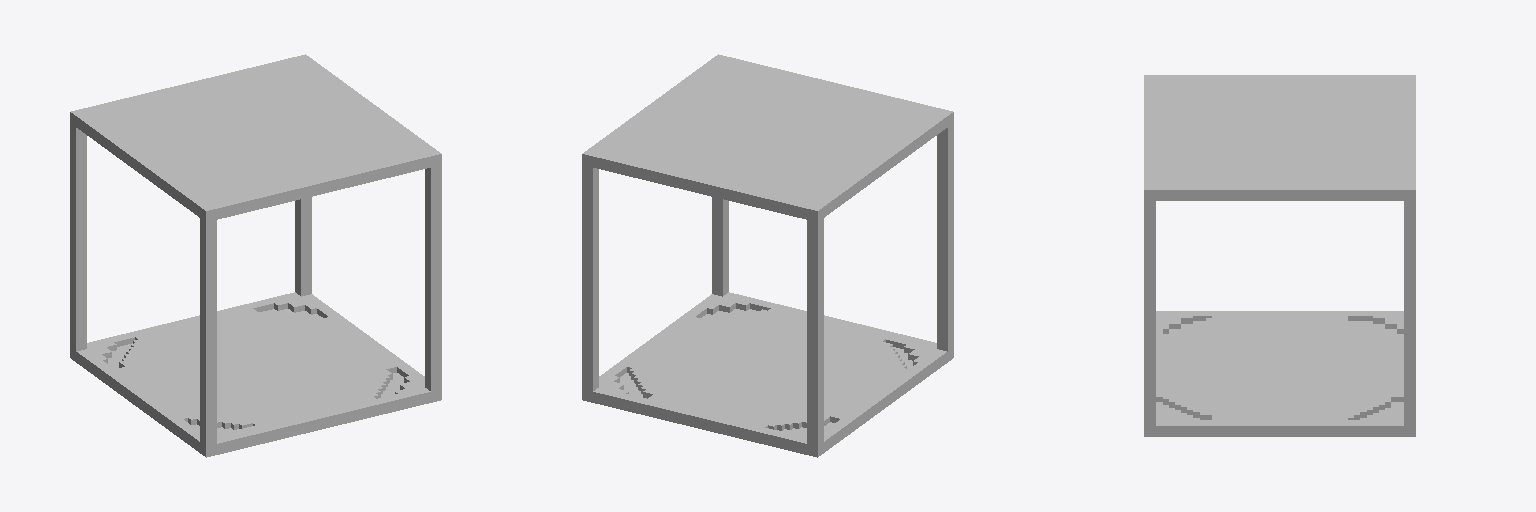
The model's file is hallway pieces-2.obj.
3 renders of one model, left to right at view 1: azimuth 30°, elevation 25°; view 2: azimuth 150°, elevation 25°; view 3: azimuth 270°, elevation 25°, orthographic.
Parts seen in each view (by area): view 1: object 1; view 2: object 1; view 3: object 1.
Part boxes in pixels (left/top/right/bottom): object 1: left=70, top=54, right=441, bottom=457; object 1: left=582, top=54, right=953, bottom=457; object 1: left=1144, top=75, right=1415, bottom=436.
Bounding box in the file's own units: 4.4 × 4.4 × 4.4.